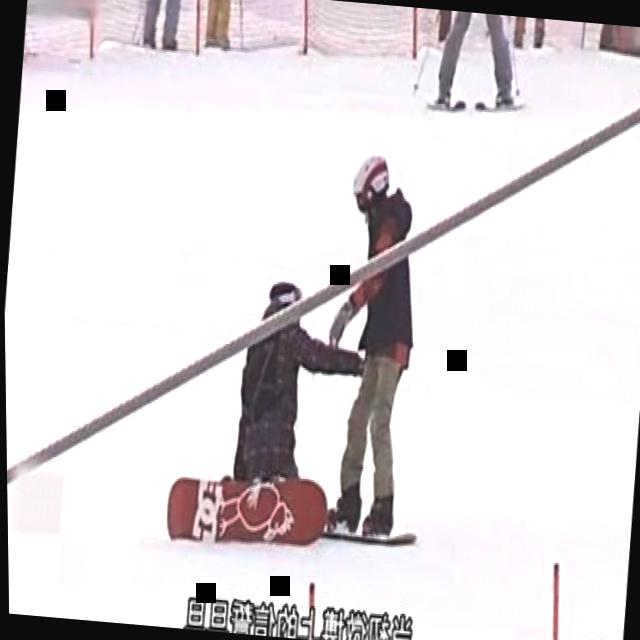Fall-Detected: (191, 245, 382, 548)
